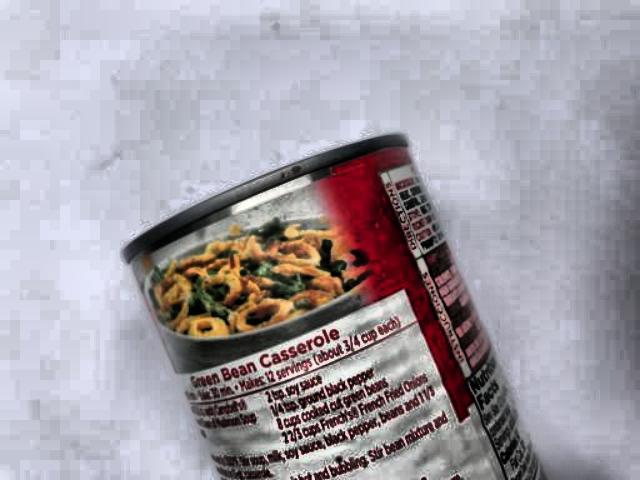Almennt: (114, 120, 562, 480)
